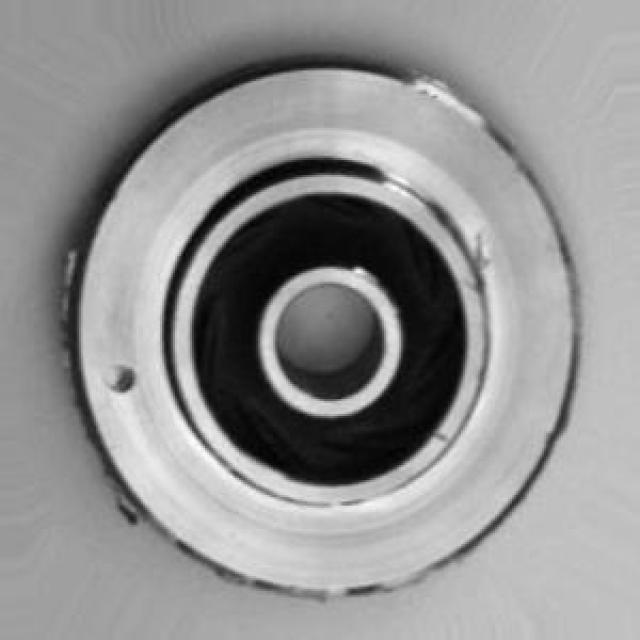Defect: (51, 253, 85, 320), (469, 231, 500, 297), (100, 360, 144, 397)
